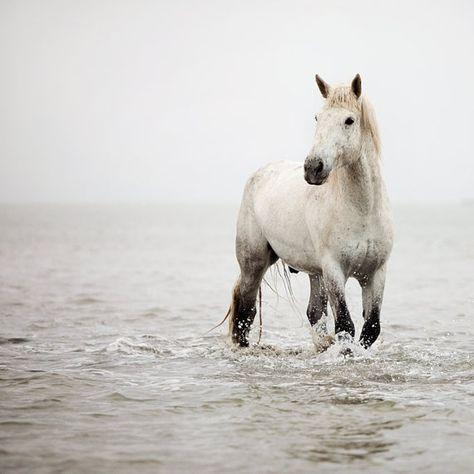horse: (220, 72, 394, 356)
